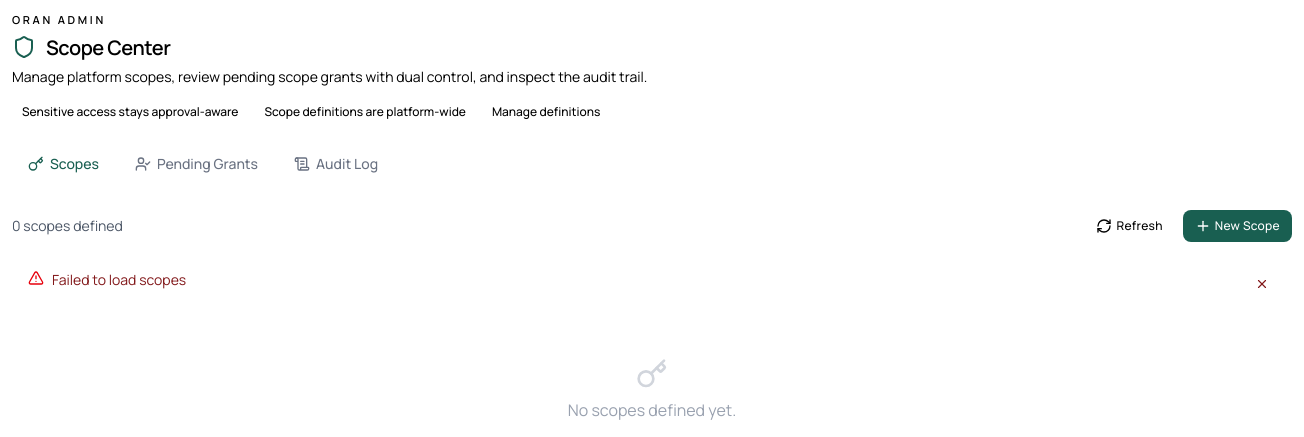
it: oran admin scope center page › shows scopes and audit-tab API failures
The image size is (1304, 437).
Check: the message "Failed to load scopes" is shown, box [28, 270, 1276, 298]
Check: the text "Failed to load scopes" is shown, box [52, 270, 186, 289]
Click the tab "Audit Log".
click(336, 164)  # box [278, 142, 394, 186]
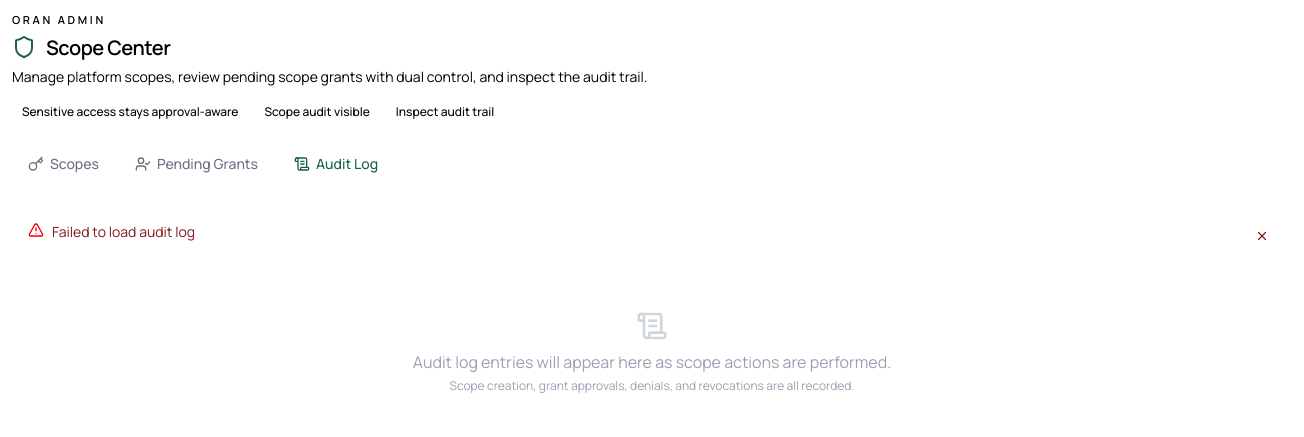
Check: the text "Failed to load audit log" is shown, box [52, 222, 195, 241]
